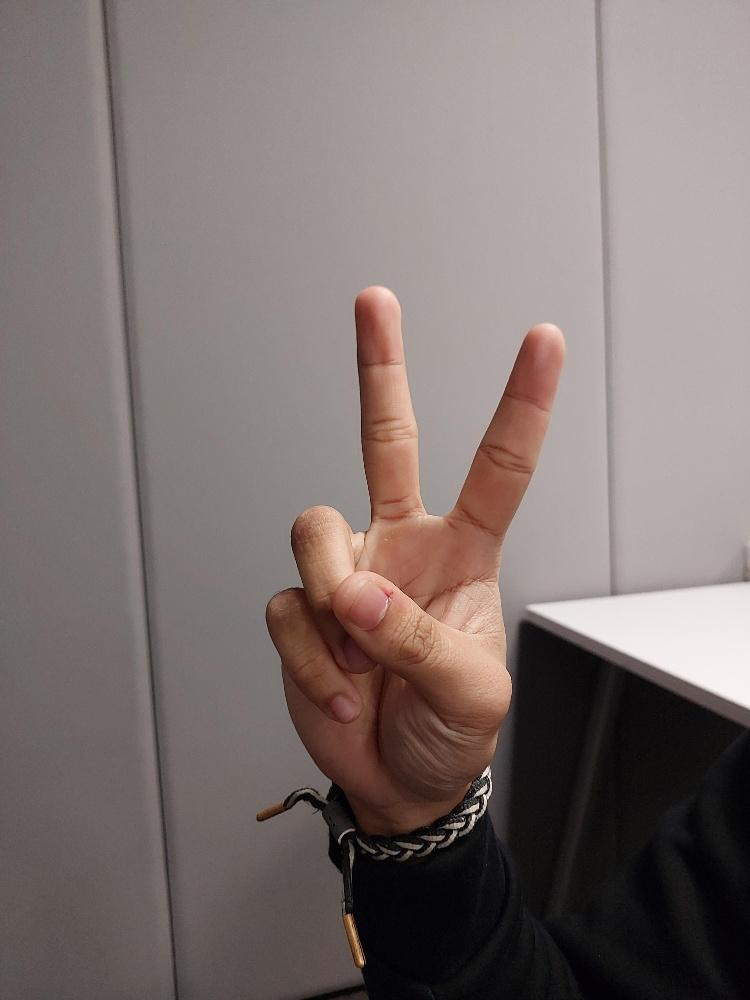v: (262, 283, 565, 806)
